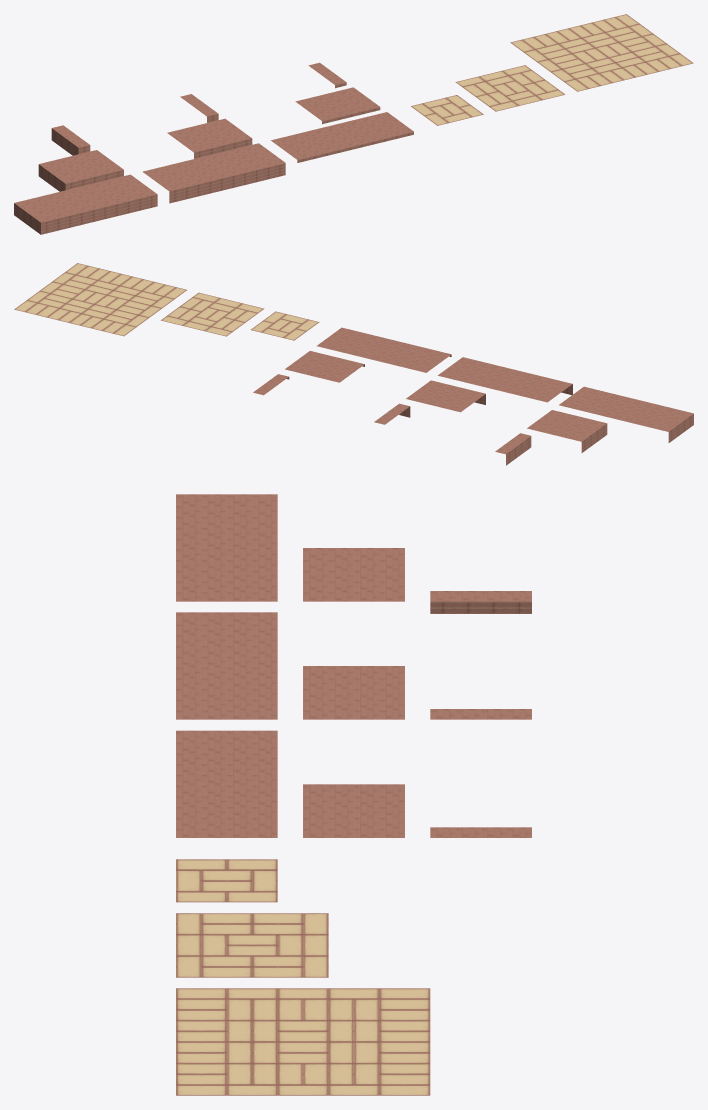
The model's file is Sets_Suelo_Comp.fbx.
3 views of the same model, one above another, from view 1: azimuth 30°, elevation 25°; view 2: azimuth 150°, elevation 25°; view 3: azimuth 270°, elevation 25° (orthographic). The views are drawn at different scales.
Parts seen in each view (by area): view 1: Tatami_x10, Madera_x10_Esquina, Madera_x10, Madera_x10_Low, Tatami_x6, Madera_x5_Esquina, Madera_x5, Madera_x5_Low, Tatami_x4, Madera_x1_Esquina, Madera_x1, Madera_x1_Low; view 2: Tatami_x10, Madera_x10_Esquina, Madera_x10, Madera_x10_Low, Tatami_x6, Madera_x5_Esquina, Madera_x5, Madera_x5_Low, Tatami_x4, Madera_x1_Esquina, Madera_x1; view 3: Tatami_x10, Madera_x10_Low, Madera_x10_Esquina, Madera_x10, Tatami_x6, Madera_x5_Low, Madera_x5_Esquina, Madera_x5, Tatami_x4, Madera_x1_Esquina, Madera_x1_Low, Madera_x1.
Boxes of the visible parts, left/top/right/bottom form: Tatami_x10: left=510, top=14, right=693, bottom=91; Madera_x10_Esquina: left=14, top=174, right=157, bottom=234; Madera_x10: left=142, top=143, right=285, bottom=203; Madera_x10_Low: left=271, top=112, right=413, bottom=162; Tatami_x6: left=455, top=65, right=564, bottom=111; Madera_x5_Esquina: left=38, top=150, right=123, bottom=191; Madera_x5: left=167, top=118, right=252, bottom=158; Madera_x5_Low: left=295, top=87, right=380, bottom=124; Tatami_x4: left=411, top=95, right=483, bottom=125; Madera_x1_Esquina: left=51, top=125, right=90, bottom=155; Madera_x1: left=180, top=94, right=218, bottom=122; Madera_x1_Low: left=308, top=62, right=346, bottom=88; Tatami_x10: left=14, top=263, right=186, bottom=336; Madera_x10_Esquina: left=559, top=386, right=693, bottom=442; Madera_x10: left=438, top=357, right=572, bottom=402; Madera_x10_Low: left=316, top=327, right=451, bottom=372; Tatami_x6: left=161, top=292, right=264, bottom=336; Madera_x5_Esquina: left=527, top=410, right=607, bottom=452; Madera_x5: left=406, top=380, right=485, bottom=412; Madera_x5_Low: left=285, top=351, right=364, bottom=382; Tatami_x4: left=251, top=311, right=319, bottom=340; Madera_x1_Esquina: left=495, top=433, right=531, bottom=465; Madera_x1: left=374, top=403, right=410, bottom=424; Tatami_x10: left=176, top=988, right=430, bottom=1095; Madera_x10_Low: left=176, top=730, right=277, bottom=837; Madera_x10_Esquina: left=176, top=494, right=277, bottom=601; Madera_x10: left=176, top=612, right=277, bottom=719; Tatami_x6: left=176, top=913, right=328, bottom=977; Madera_x5_Low: left=303, top=784, right=404, bottom=837; Madera_x5_Esquina: left=303, top=548, right=404, bottom=601; Madera_x5: left=303, top=666, right=404, bottom=719; Tatami_x4: left=176, top=859, right=277, bottom=902; Madera_x1_Esquina: left=430, top=591, right=531, bottom=613; Madera_x1_Low: left=430, top=827, right=531, bottom=837; Madera_x1: left=430, top=709, right=531, bottom=719.
Size of the model in its own units: 5600 by 100 by 1400.
Materials: 3 (3 with a texture image).
